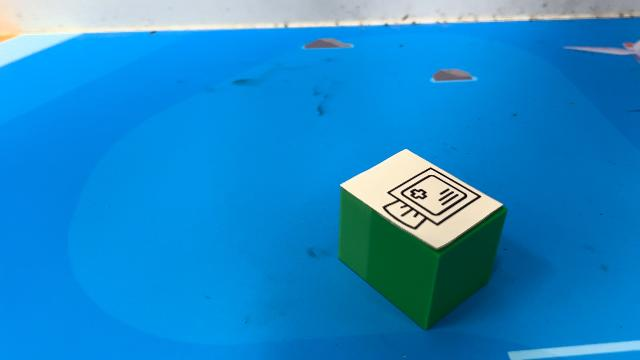napkin: (336, 146, 508, 330)
